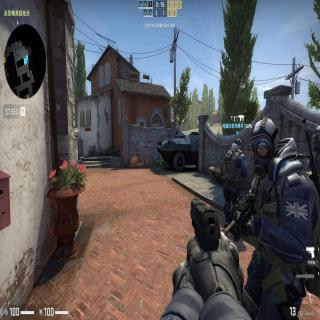CT-Body: (219, 136, 246, 199)
CT-Head: (248, 120, 280, 175), (232, 136, 242, 153)
